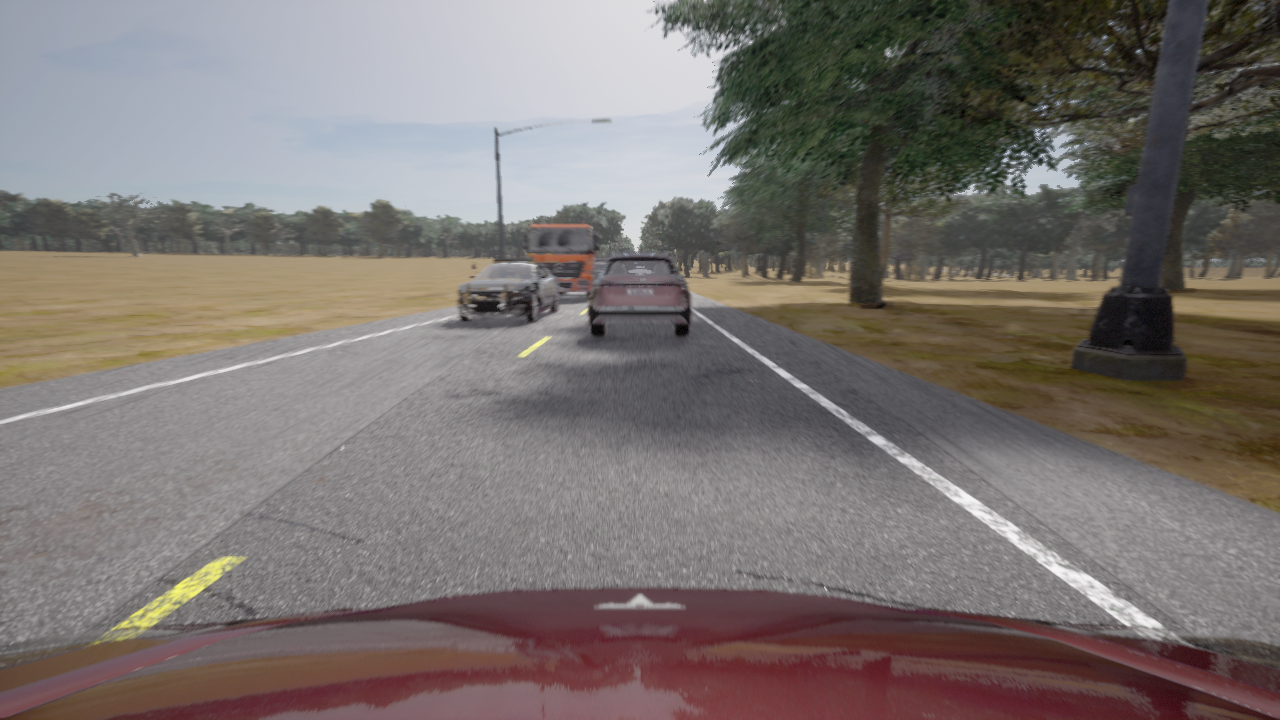cyclist: (0, 588, 1279, 719), (589, 251, 691, 336), (456, 257, 558, 322), (523, 224, 600, 298), (594, 258, 608, 270)
